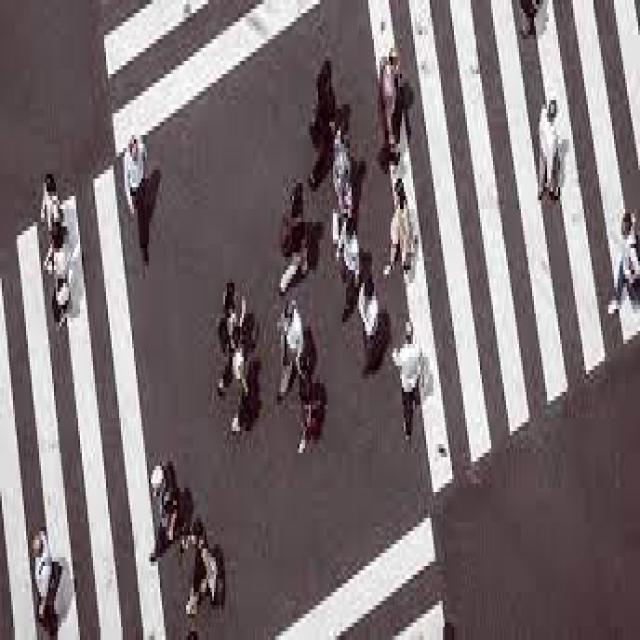Pedestrians: (389, 318, 428, 444), (116, 126, 154, 248), (378, 174, 422, 279), (180, 518, 227, 614), (603, 205, 640, 318), (39, 226, 76, 331), (147, 462, 182, 562), (534, 100, 567, 200), (36, 170, 64, 226)
